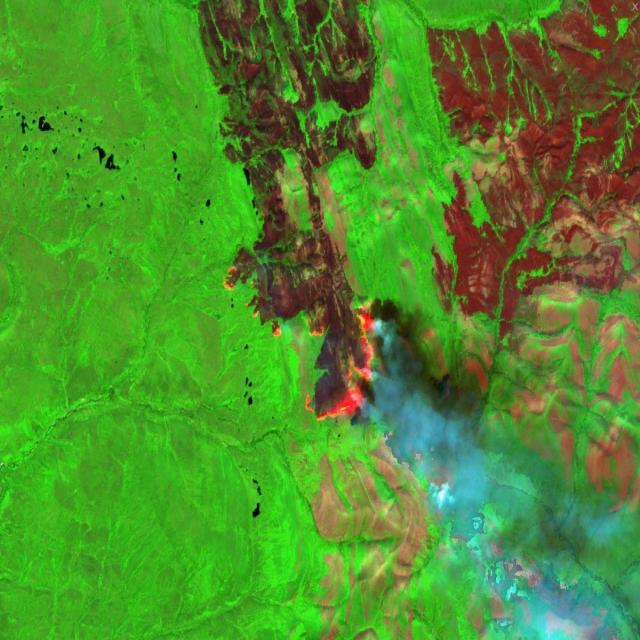fire: (218, 262, 383, 427)
